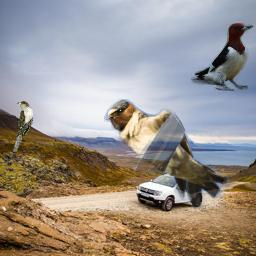Cuckoo: (13, 101, 33, 152)
Swallow: (104, 99, 229, 209)
Woodpecker: (191, 23, 254, 91)
